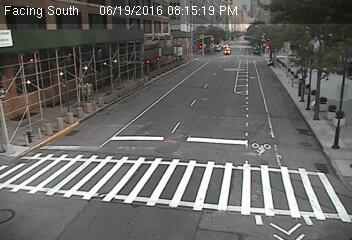neg: (29, 115, 65, 163), (254, 164, 281, 200), (225, 44, 251, 78), (35, 32, 60, 66), (284, 149, 309, 182), (37, 200, 62, 233), (308, 87, 332, 119), (114, 156, 138, 188), (204, 109, 228, 141), (121, 112, 145, 144), (194, 161, 217, 191), (243, 98, 264, 125), (123, 39, 143, 66), (162, 102, 182, 128), (276, 65, 296, 91), (67, 99, 86, 124), (86, 151, 104, 176), (92, 66, 109, 88), (197, 46, 211, 66)
